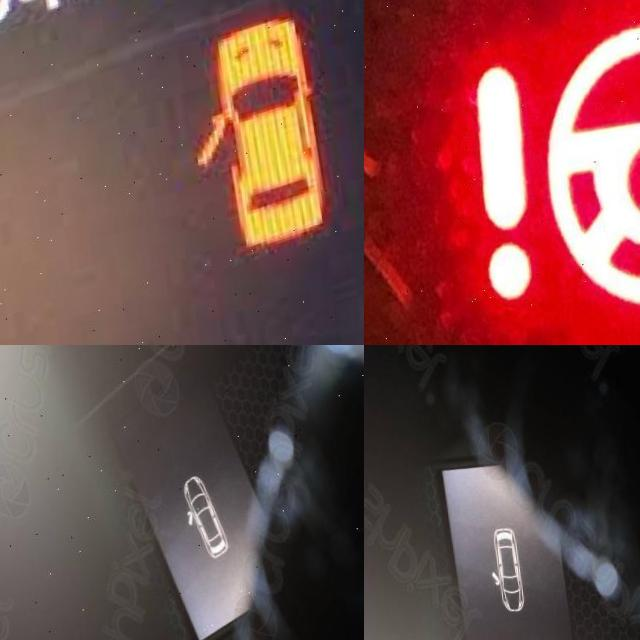Electronic Power Steering Warning: (463, 21, 640, 340)
